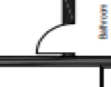door: (30, 16, 79, 57)
